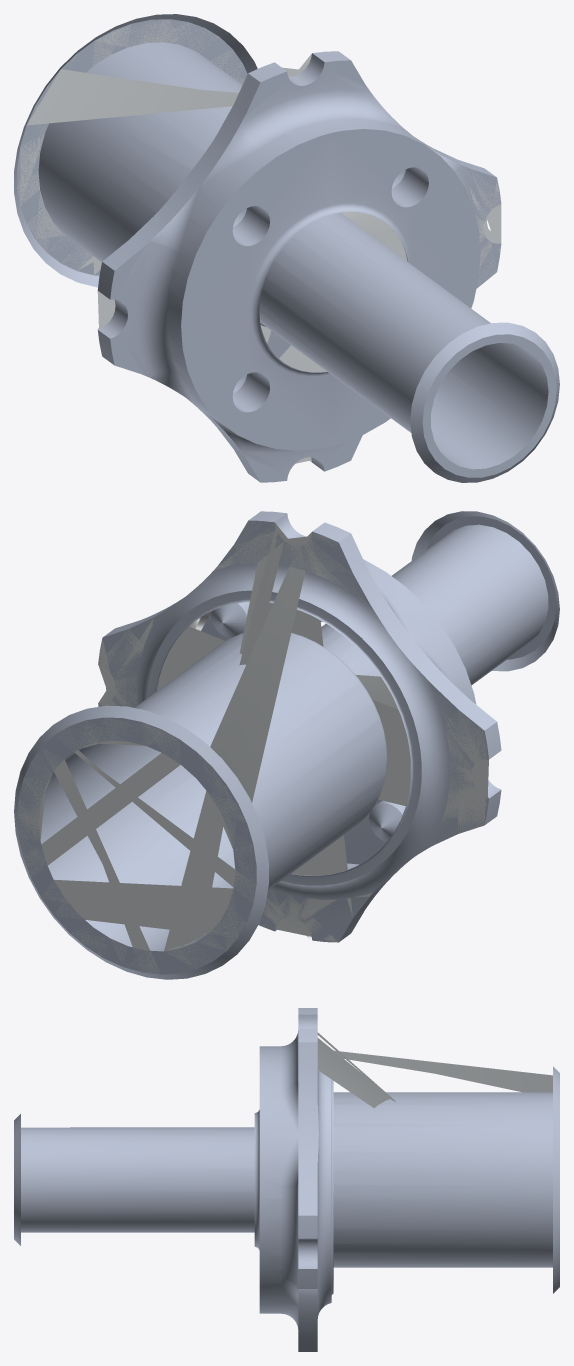
The model's file is Front_Left_Corner_Wheel_Assembly__UA_26_Front_Hub_1.dae.
The picture shows the model from 3 angles, top to bottom: view 1: azimuth 30°, elevation 25°; view 2: azimuth 150°, elevation 25°; view 3: azimuth 270°, elevation 25°; orthographic projection. The views are drawn at different scales.
Visible parts, largest first — view 1: node0, node1; view 2: node0, node1; view 3: node0, node1.
Boxes of the visible parts, x1,y1,x2,y2 form: node0: (14, 14, 559, 482); node1: (17, 19, 501, 463); node0: (14, 511, 559, 979); node1: (17, 521, 488, 973); node0: (14, 1008, 559, 1351); node1: (317, 1032, 552, 1108).
Bounding box in the file's own units: 0.0995 × 0.0995 × 0.1555.
